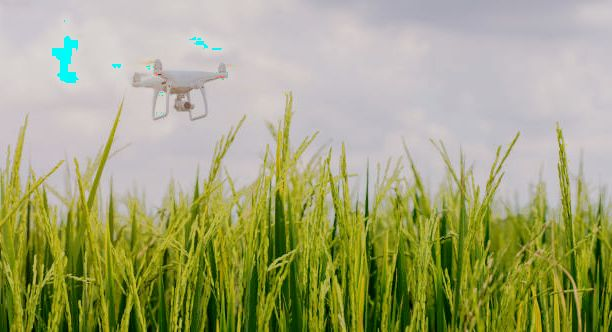Drone: (128, 52, 228, 126)
